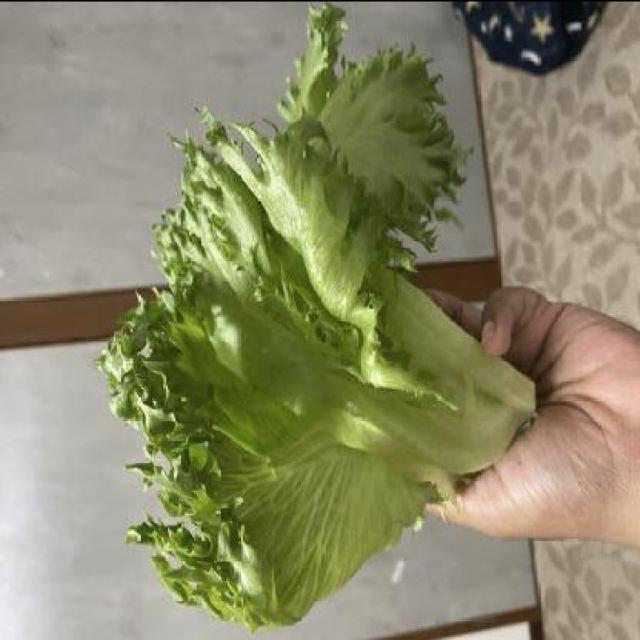Lettuce: (113, 0, 540, 631)
